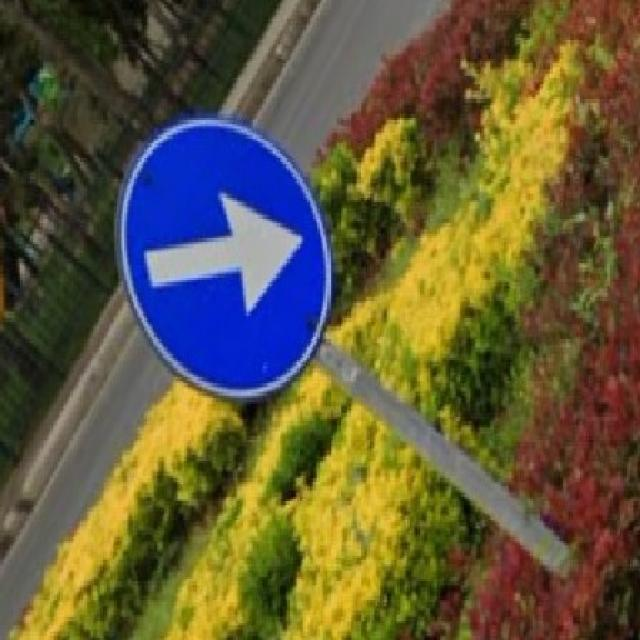Turn Right: (117, 108, 331, 395)
